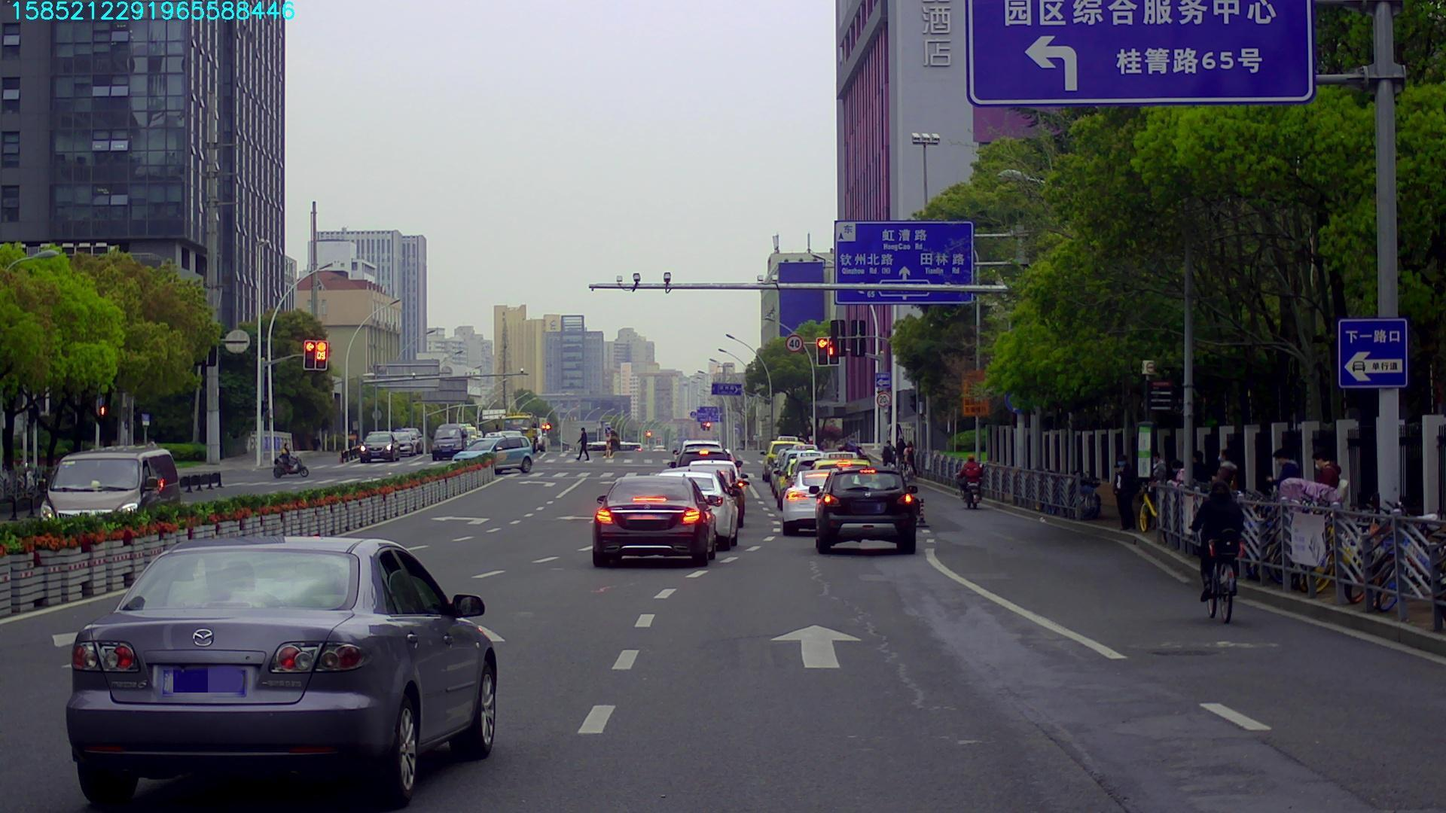red: (816, 337, 828, 364), (304, 340, 315, 368), (828, 336, 838, 364), (316, 340, 325, 368)
